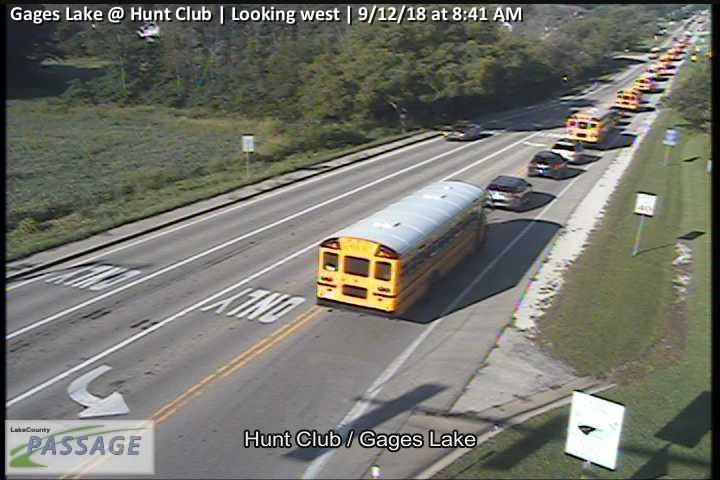Bus: (318, 179, 489, 315), (566, 106, 621, 147), (617, 87, 641, 113), (632, 75, 656, 93)
SUV: (485, 176, 534, 212), (528, 151, 568, 179), (552, 139, 584, 163), (444, 122, 480, 141)
